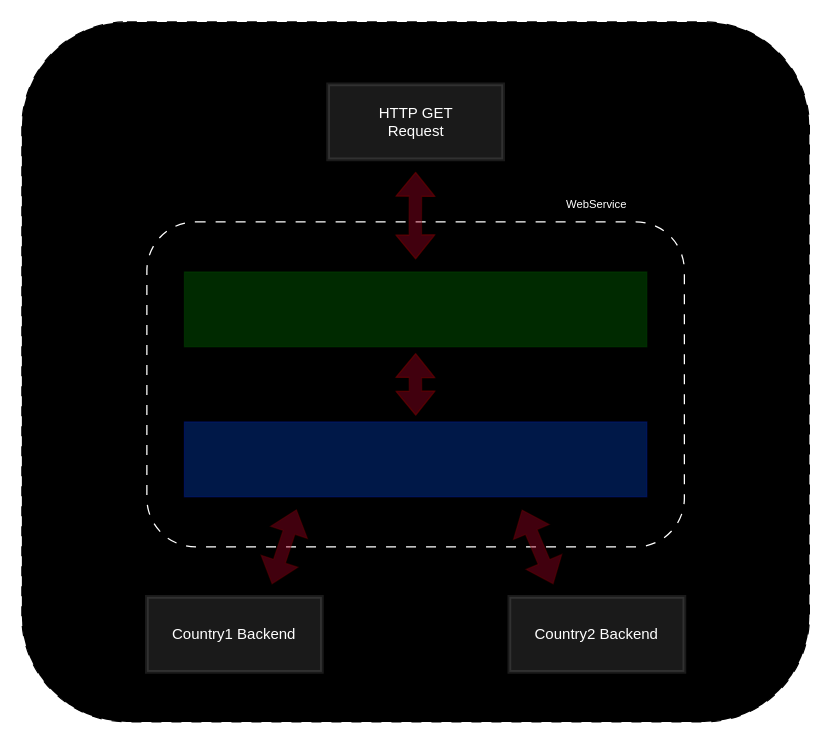
Some shapes in this 831 by 754 pixel diagram are drawn without their labels. The shapes that lost their labels are listed below. From the top down, each one's box as (x1, y1, x2, y2) in pixels, then its label:
(183, 271, 647, 347): Transport Layer
(183, 421, 647, 497): Service Layer
